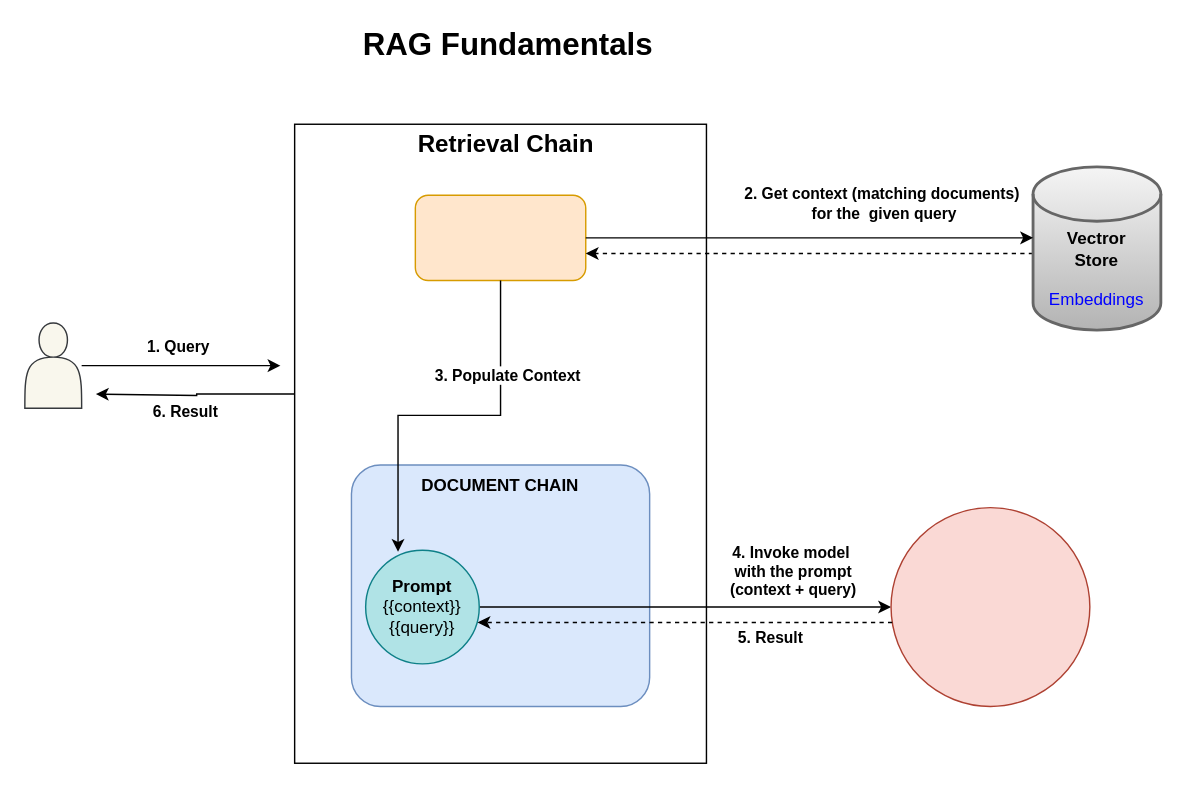
Some shapes in this 1187 by 788 pixel diagram are drawn without their labels. The shapes that lost their labels are listed below. From the top down, each one's centre as x and y in pixels, then its label:
At [500,237]: "RETRIEVER".
At [990,606]: "Model ( LLMs )".
